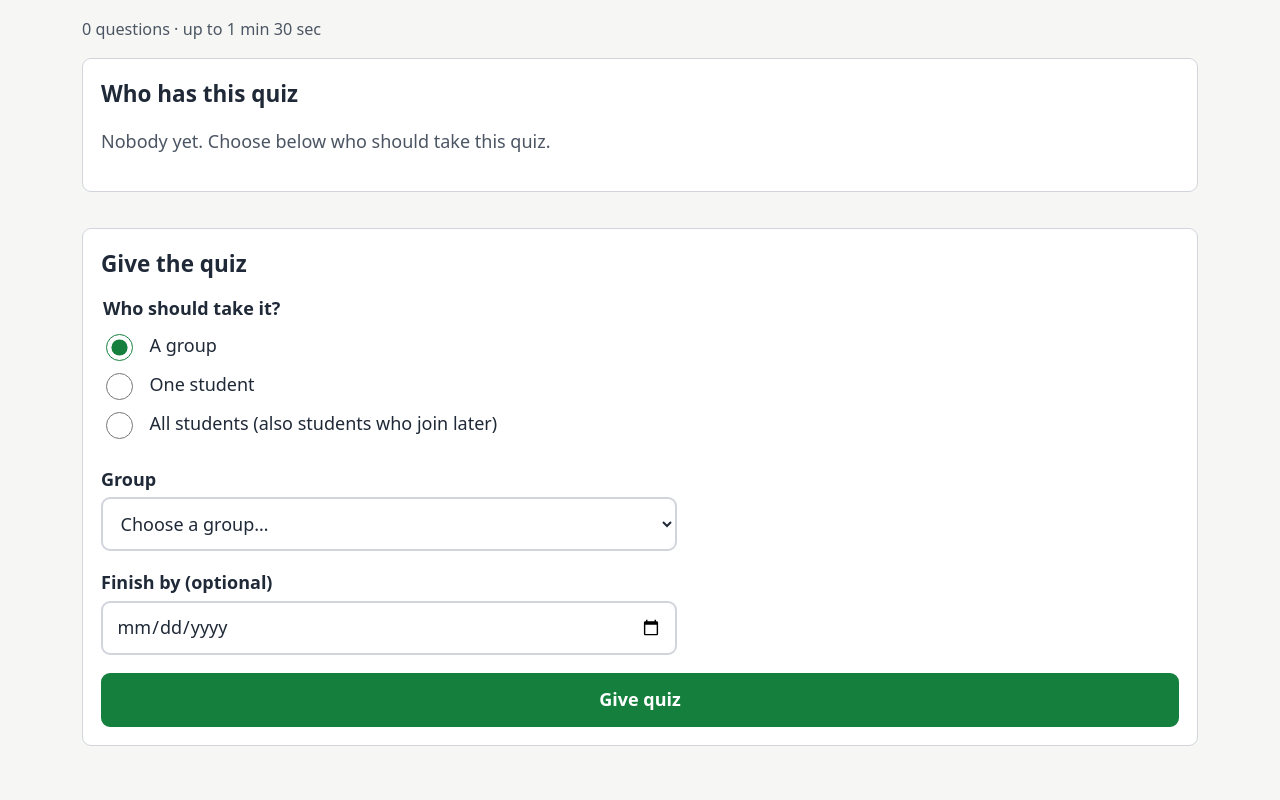
Test case: assigning a quiz › asks for a group before giving the quiz
The width and height of the screenshot is (1280, 800).
(page scrolled)
Click the button "Give quiz".
click(640, 700)  # box [101,673,1179,727]
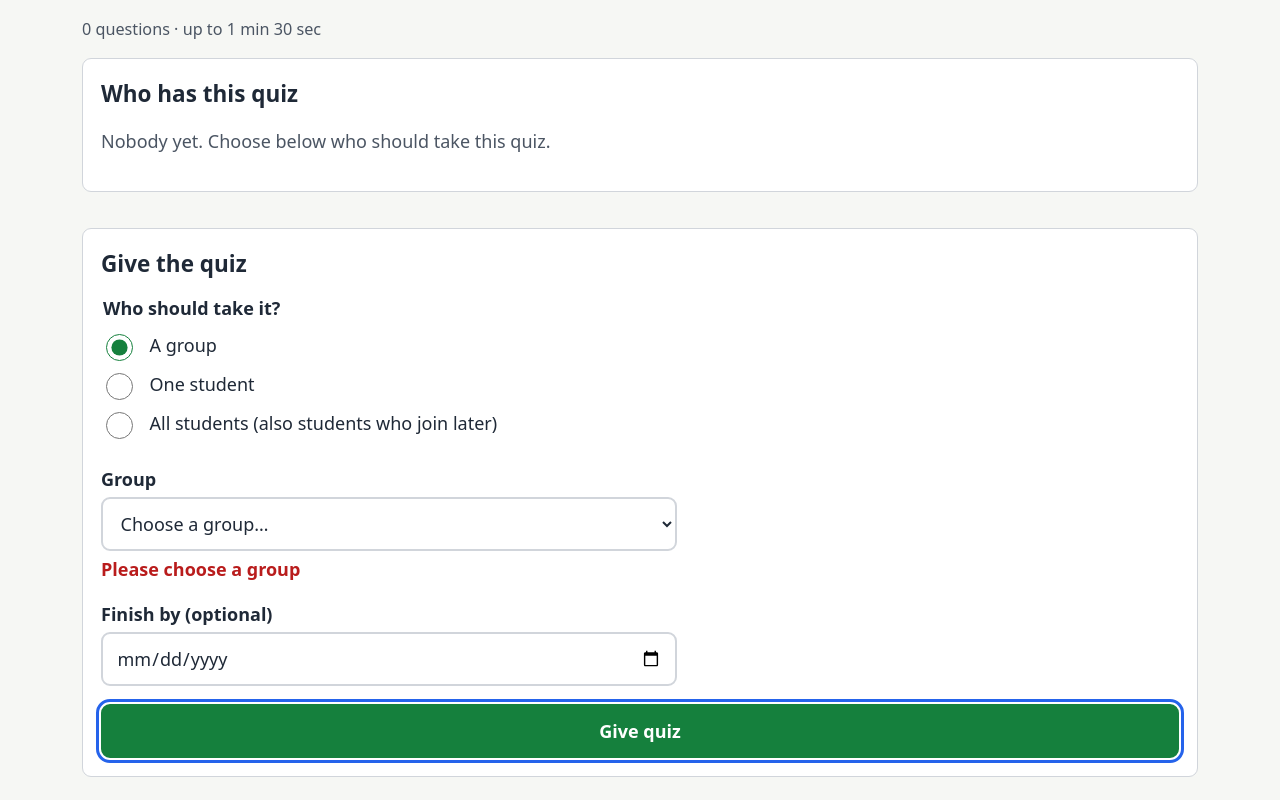
Expected: the text "Please choose a group" is shown, [101,557,300,581]
